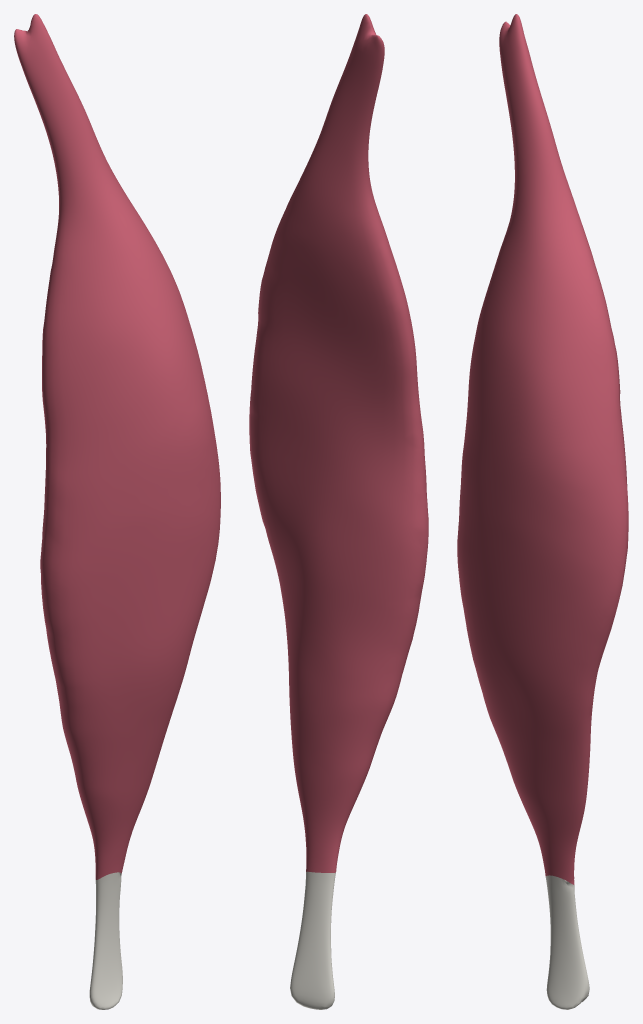
The model's file is VH_F_Muscles_Knee_L.glb.
3 views of the same model, side by side, from view 1: azimuth 30°, elevation 25°; view 2: azimuth 150°, elevation 25°; view 3: azimuth 330°, elevation 25° (orthographic). The views are drawn at different scales.
Visible parts, largest first — view 1: VH_F_rectus_femoris_L, VH_F_tendon_of_quadriceps_femoris_L; view 2: VH_F_rectus_femoris_L, VH_F_tendon_of_quadriceps_femoris_L; view 3: VH_F_rectus_femoris_L, VH_F_tendon_of_quadriceps_femoris_L.
Boxes of the visible parts, left/top/right/bottom form: VH_F_rectus_femoris_L: left=14, top=14, right=220, bottom=879; VH_F_tendon_of_quadriceps_femoris_L: left=89, top=872, right=122, bottom=1009; VH_F_rectus_femoris_L: left=249, top=14, right=428, bottom=872; VH_F_tendon_of_quadriceps_femoris_L: left=290, top=871, right=335, bottom=1009; VH_F_rectus_femoris_L: left=457, top=14, right=628, bottom=884; VH_F_tendon_of_quadriceps_femoris_L: left=545, top=875, right=589, bottom=1009.
Bounding box in the file's own units: 0.0733 × 0.4034 × 0.0471.
